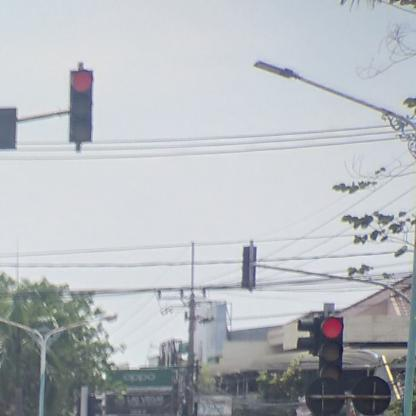red: (68, 69, 92, 143), (320, 317, 344, 386)
